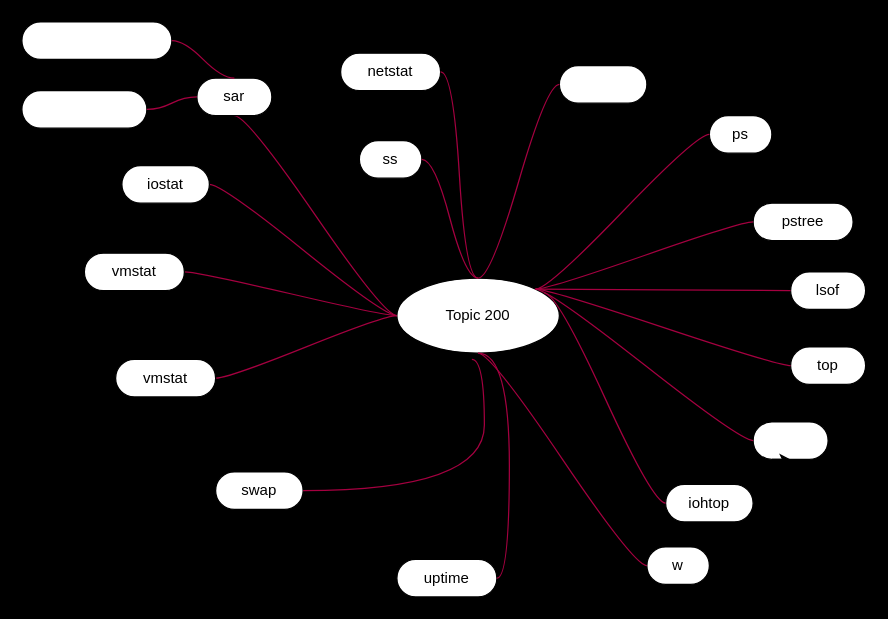
This 888x619 diagram has some shape labels left out. Each missing label, with the centre of its shape:
/var/log/sa: point (84, 108)
/var/log/sysstat: point (96, 40)
htop: point (790, 440)
iptraf: point (602, 83)
